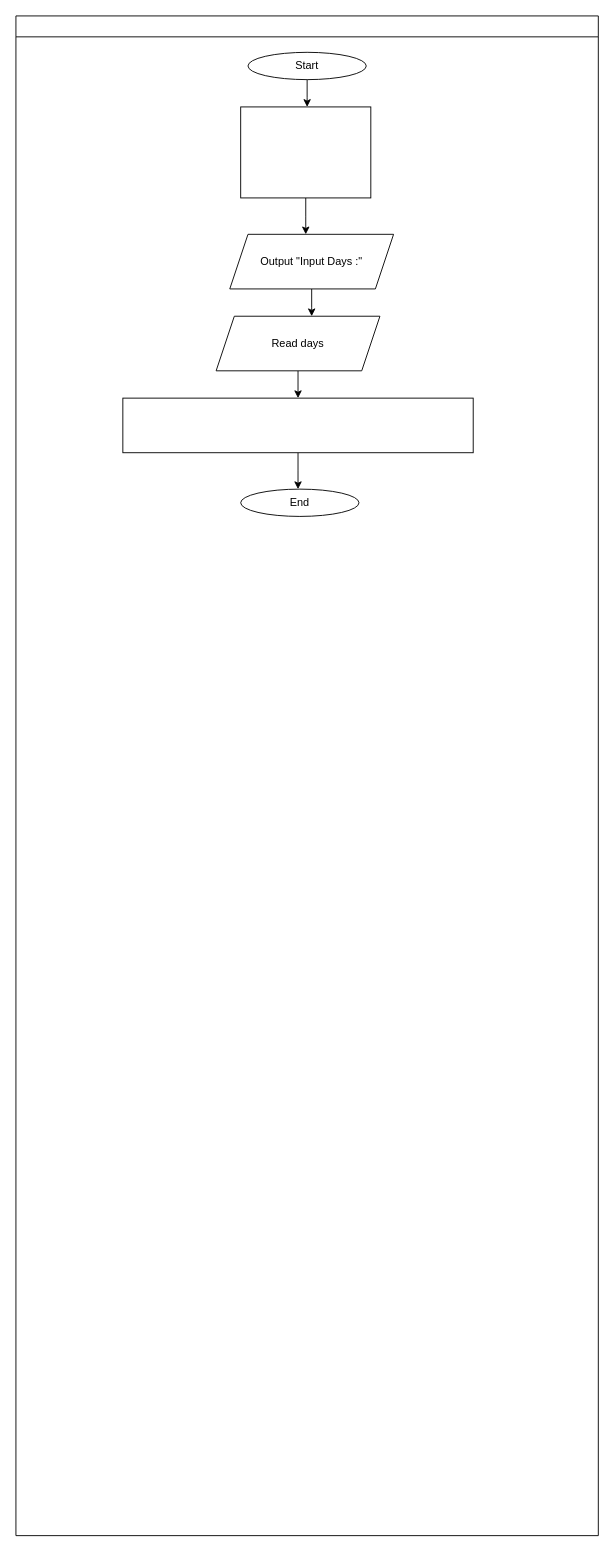
Some shapes in this 614 by 1552 pixel diagram are drawn without their labels. Each missing label, with the centre of its shape:
Declare days dayOfHour hourOfMinute minuteOfSecond result: point 305,152
result = result = days * dayOfHour * hourOfMinute * minuteOfSecond: point 297,425
